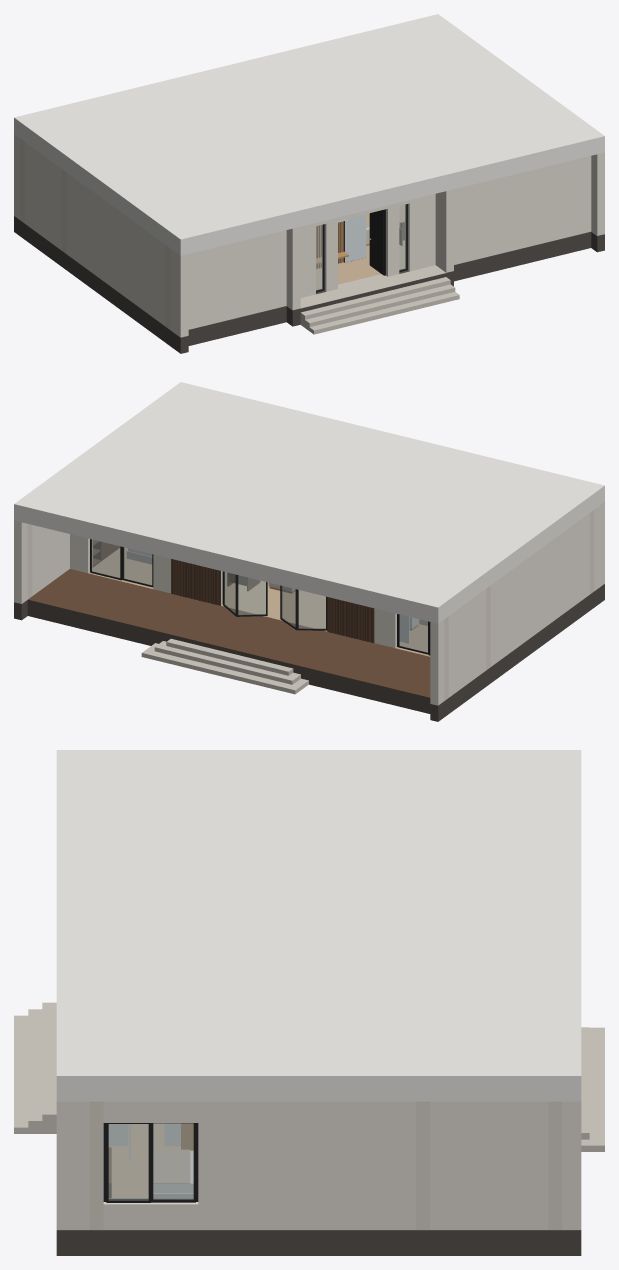
The model's file is branch-model.glb.
3 renders of one model, top to bottom at view 1: azimuth 30°, elevation 25°; view 2: azimuth 150°, elevation 25°; view 3: azimuth 270°, elevation 25°, orthographic. The views are drawn at different scales.
Parts seen in each view (by area): view 1: Roof_roof, W-S3_wallExt, Plinth_plinth, W-W1_wallExt, W-S1_wallExt, W-T2_wallExt, W-S2d_wallExt, Porch_stone, W-P2_wallExt, ST-S1_stone, ST-S3_stone, ST-S2_stone (+14 smaller); view 2: Roof_roof, Floor_T_deck, W-W1_wallExt, Plinth_plinth, Facade_Cladding_slat, W-T2_wallExt, Floor_01_laminate, W-T4_wallExt, ST-N3_stone, ST-N2_stone, W-T1_wallExt, ST-N1_stone (+14 smaller); view 3: Roof_roof, W-E1_wallExt, W-T4_wallExt, Plinth_plinth, O-07_wallExt, D-07a_glass, D-07b_glass, W-T3_wallExt, W-F2_wallExt, Floor_06_laminate, ST-N3_stone, ST-S1_stone (+11 smaller).
Part boxes in pixels (left/top/right/bottom): Roof_roof: left=14, top=14, right=604, bottom=255; W-S3_wallExt: left=454, top=156, right=591, bottom=264; Plinth_plinth: left=14, top=216, right=604, bottom=353; W-W1_wallExt: left=66, top=173, right=165, bottom=326; W-S1_wallExt: left=170, top=230, right=286, bottom=332; W-T2_wallExt: left=24, top=142, right=61, bottom=250; W-S2d_wallExt: left=405, top=194, right=435, bottom=271; Porch_stone: left=300, top=265, right=445, bottom=308; W-P2_wallExt: left=435, top=189, right=453, bottom=272; ST-S1_stone: left=300, top=277, right=450, bottom=327; ST-S3_stone: left=302, top=292, right=459, bottom=334; ST-S2_stone: left=300, top=284, right=455, bottom=327; Roof_roof: left=14, top=382, right=604, bottom=623; Floor_T_deck: left=28, top=569, right=430, bottom=697; W-W1_wallExt: left=490, top=513, right=589, bottom=666; Plinth_plinth: left=14, top=584, right=604, bottom=721; Facade_Cladding_slat: left=171, top=559, right=374, bottom=643; W-T2_wallExt: left=448, top=589, right=486, bottom=697; Floor_01_laminate: left=225, top=572, right=325, bottom=626; W-T4_wallExt: left=32, top=525, right=69, bottom=595; ST-N3_stone: left=141, top=643, right=308, bottom=694; ST-N2_stone: left=154, top=641, right=300, bottom=684; W-T1_wallExt: left=430, top=620, right=444, bottom=705; ST-N1_stone: left=166, top=638, right=293, bottom=675; Roof_roof: left=56, top=750, right=581, bottom=1101; W-E1_wallExt: left=198, top=1101, right=415, bottom=1229; W-T4_wallExt: left=430, top=1101, right=548, bottom=1229; Plinth_plinth: left=56, top=1230, right=581, bottom=1255; O-07_wallExt: left=103, top=1101, right=198, bottom=1229; D-07a_glass: left=153, top=1123, right=193, bottom=1199; D-07b_glass: left=108, top=1124, right=148, bottom=1200; W-T3_wallExt: left=562, top=1101, right=581, bottom=1229; W-F2_wallExt: left=56, top=1101, right=75, bottom=1229; Floor_06_laminate: left=109, top=1146, right=180, bottom=1198; ST-N3_stone: left=581, top=1027, right=604, bottom=1151; ST-S1_stone: left=42, top=1002, right=56, bottom=1133.
Bounding box in the file's own units: 16.3 × 4.2 × 12.5.
